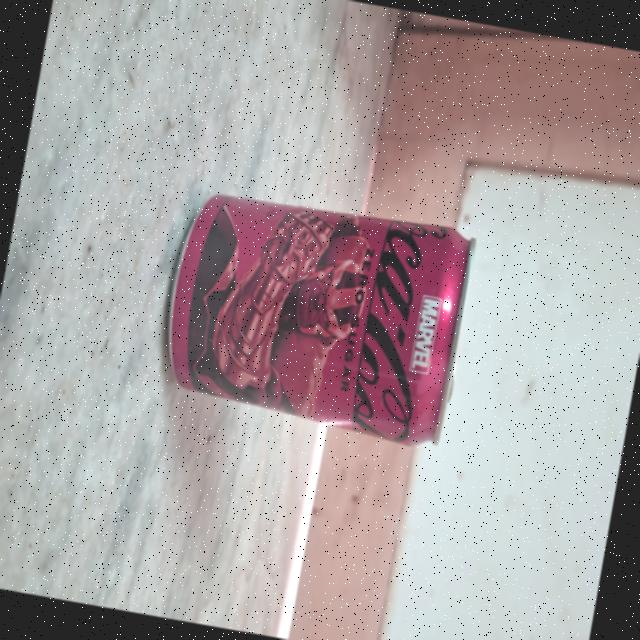Coca Cola Zero: (156, 173, 474, 443)
